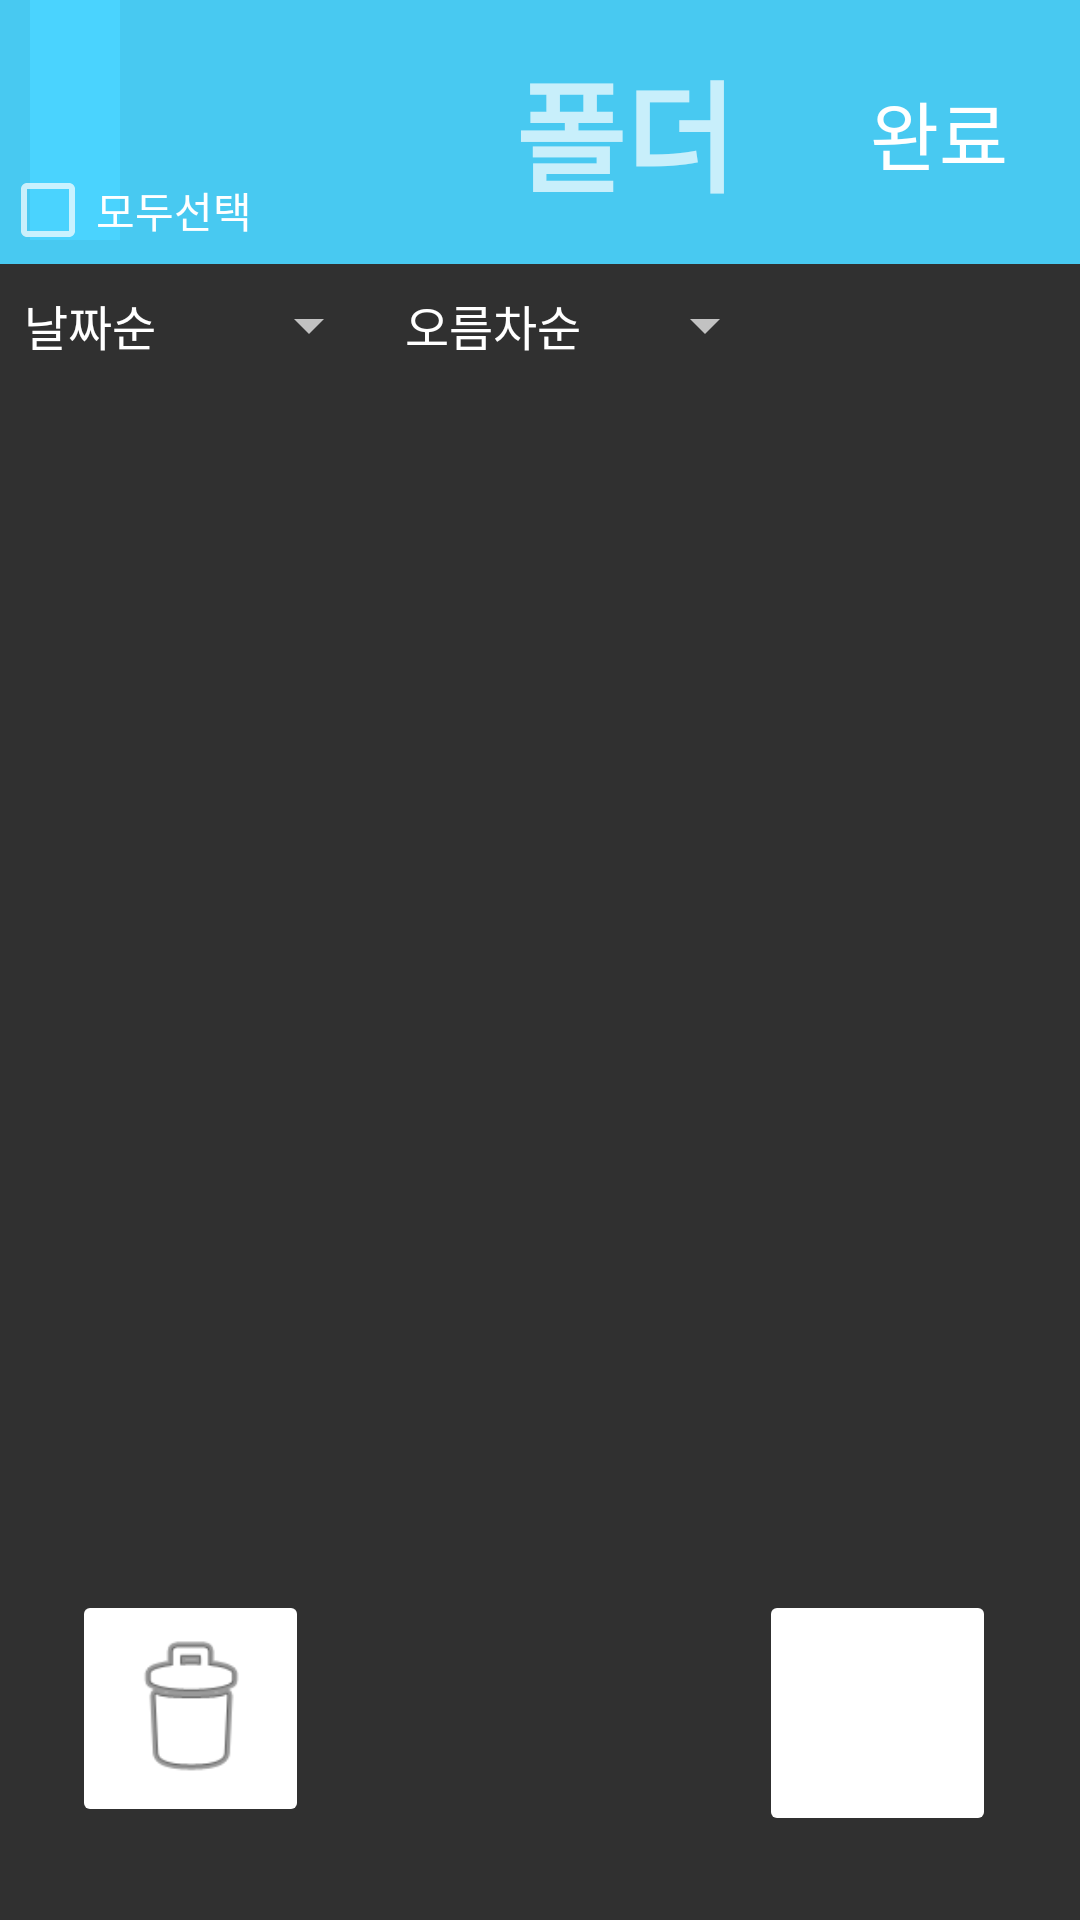

Screen size 1080px×1920px. Icon name, then its center in pixels as [x,y]:
delete: [190,1708]
